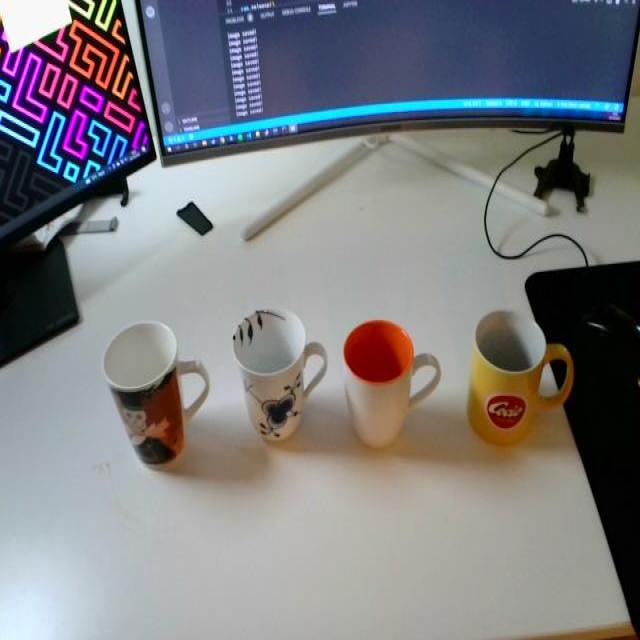cup: (220, 295, 333, 450), (461, 300, 574, 451), (97, 314, 206, 469), (345, 307, 442, 452)
